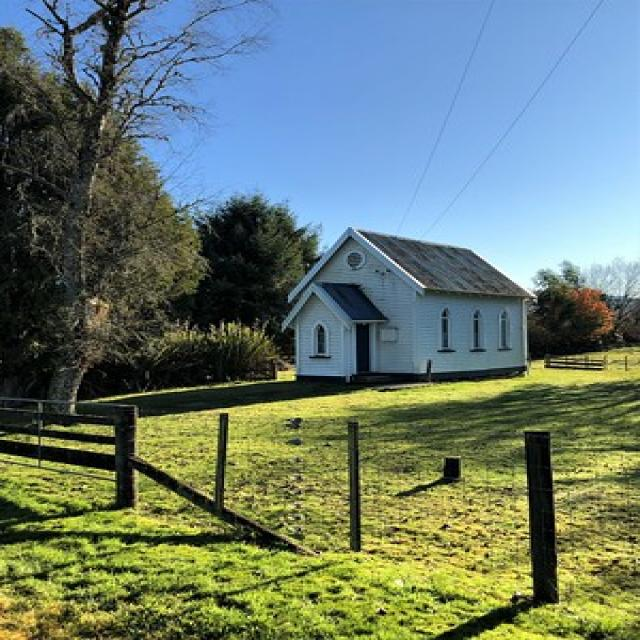Normal_building: (278, 228, 536, 390)
